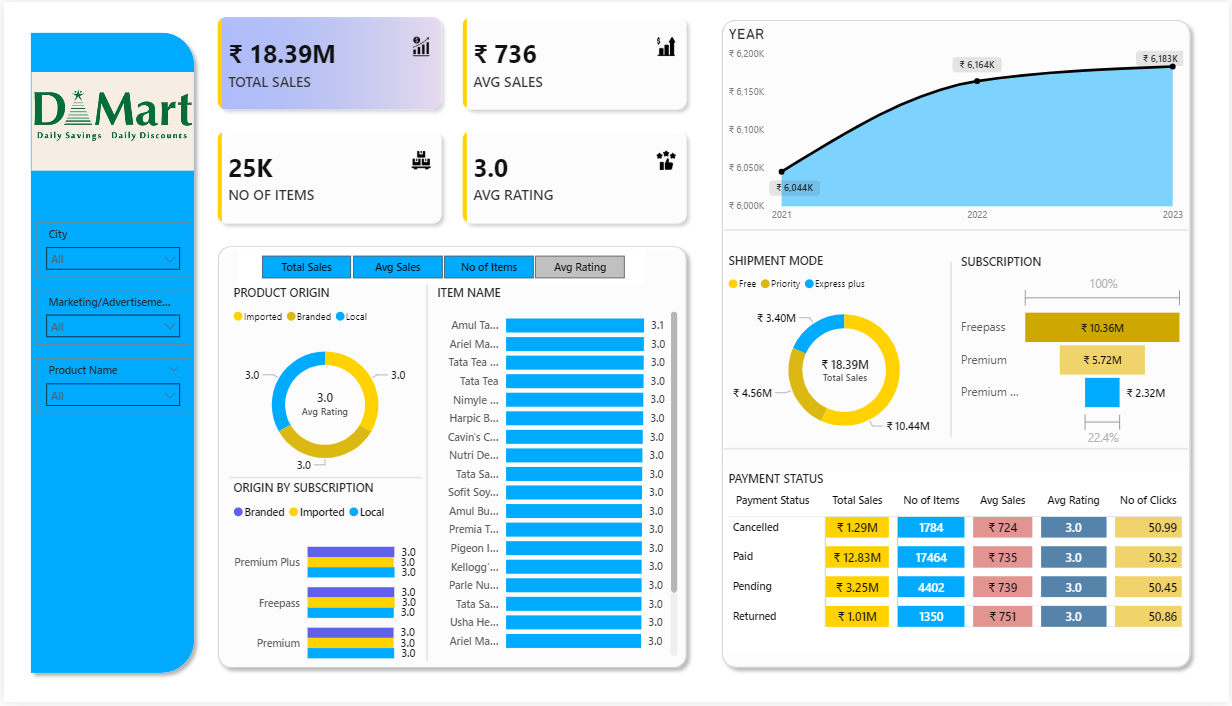

The dashboard page shown, as its layout file describes it:
{"tool":"powerbi","page":{"name":"DMart Dashboard","canvas":[1400,800],"ordinal":4},"visuals":[{"type":"shape","box":[21.7,25,205,750],"z":0},{"type":"cardVisual","fields":{"Data":["Dmart+Dataset_Tableau.Total Sales","Dmart+Dataset_Tableau.Average Sales","Dmart+Dataset_Tableau.No. of Items","Dmart+Dataset_Tableau.Average Rating"]},"box":[226.7,0,570,270],"z":1000},{"type":"shape","box":[235,270,553.3,500],"z":2000},{"type":"slicer","fields":{"Values":["Metrics.Metrics"]},"box":[268.3,283.3,465,40],"z":3000},{"type":"donutChart","title":"PRODUCT ORIGIN","fields":{"Y":["Dmart+Dataset_Tableau.Avg Rating"],"Category":["Dmart+Dataset_Tableau.Category"]},"box":[256.7,323.3,220,230],"z":4000},{"type":"cardVisual","fields":{"Data":["Dmart+Dataset_Tableau.Avg Rating"]},"box":[302.5,421.2,128.8,75],"z":5000},{"type":"clusteredBarChart","title":"ORIGIN BY SUBSCRIPTION","fields":{"Y":["Dmart+Dataset_Tableau.Avg Rating"],"Category":["Dmart+Dataset_Tableau.Subscription"],"Series":["Dmart+Dataset_Tableau.Category"]},"box":[256.7,545,220,230],"z":6000},{"type":"shape","box":[257.1,534.3,220,18.6],"z":7000},{"type":"shape","box":[477.1,322.9,12.9,430],"z":8000},{"type":"image","box":[31.4,80,185.7,112.9],"z":9000},{"type":"barChart","title":"ITEM NAME","fields":{"Y":["Dmart+Dataset_Tableau.Avg Rating"],"Category":["Dmart+Dataset_Tableau.Product Name"]},"box":[490,323.3,285,430],"z":10000},{"type":"shape","box":[811.7,11.7,553.3,758.3],"z":11000},{"type":"lineChart","title":"YEAR","fields":{"Category":["Dmart+Dataset_Tableau.Year"],"Y":["Dmart+Dataset_Tableau.Total Sales"]},"box":[822.5,26.2,530,235],"z":12000},{"type":"shape","box":[823.3,251.7,530,18.3],"z":13000},{"type":"donutChart","title":"SHIPMENT MODE","fields":{"Y":["Dmart+Dataset_Tableau.Total Sales"],"Category":["Dmart+Dataset_Tableau.Ship Mode"]},"box":[823.3,285,275,225],"z":14000},{"type":"shape","box":[1075,296.7,13.3,200],"z":15000},{"type":"funnel","title":"SUBSCRIPTION","fields":{"Y":["Sum(Dmart+Dataset_Tableau.total_order_value)"],"Category":["Dmart+Dataset_Tableau.Subscription"]},"box":[1088.3,286.7,265,226.7],"z":16000},{"type":"shape","box":[823.3,501.7,530,18.3],"z":17000},{"type":"pivotTable","title":"PAYMENT STATUS","fields":{"Values":["Dmart+Dataset_Tableau.Total Sales","Dmart+Dataset_Tableau.No of Items","Dmart+Dataset_Tableau.Avg Sales","Dmart+Dataset_Tableau.Avg Rating","Avg(Dmart+Dataset_Tableau.No of Clicks)"],"Rows":["Dmart+Dataset_Tableau.Payment Status"]},"box":[823.3,535,530,208.3],"z":18000},{"type":"slicer","fields":{"Values":["Dmart+Dataset_Tableau.City"]},"box":[36.7,251.7,175,63.3],"z":19000},{"type":"slicer","fields":{"Values":["Dmart+Dataset_Tableau.Marketing/Advertisement"]},"box":[36.7,328.3,175,63.3],"z":20000},{"type":"slicer","fields":{"Values":["Dmart+Dataset_Tableau.Product Name"]},"box":[36.7,406.7,175,63.3],"z":21000},{"type":"cardVisual","fields":{"Data":["Dmart+Dataset_Tableau.Total Sales"]},"box":[896.7,383.3,128.3,75],"z":22000}]}

Visuals, with their boxes in screenshot pixels (x1, y1, x2, y2), scaled from the page's 1400x800 canvas onto the 1232x706 screenshot:
shape: pyautogui.locateOnScreen(19, 22, 199, 684)
cardVisual - Dmart+Dataset_Tableau.Total Sales x Dmart+Dataset_Tableau.Average Sales: pyautogui.locateOnScreen(199, 0, 701, 238)
shape: pyautogui.locateOnScreen(207, 238, 694, 680)
slicer - Metrics.Metrics: pyautogui.locateOnScreen(236, 250, 645, 285)
"PRODUCT ORIGIN" donutChart: pyautogui.locateOnScreen(226, 285, 419, 488)
cardVisual - Dmart+Dataset_Tableau.Avg Rating: pyautogui.locateOnScreen(266, 372, 380, 438)
"ORIGIN BY SUBSCRIPTION" clusteredBarChart: pyautogui.locateOnScreen(226, 481, 419, 684)
shape: pyautogui.locateOnScreen(226, 472, 420, 488)
shape: pyautogui.locateOnScreen(420, 285, 431, 664)
image: pyautogui.locateOnScreen(28, 71, 191, 170)
"ITEM NAME" barChart: pyautogui.locateOnScreen(431, 285, 682, 665)
shape: pyautogui.locateOnScreen(714, 10, 1201, 680)
"YEAR" lineChart: pyautogui.locateOnScreen(724, 23, 1190, 231)
shape: pyautogui.locateOnScreen(725, 222, 1191, 238)
"SHIPMENT MODE" donutChart: pyautogui.locateOnScreen(725, 252, 967, 450)
shape: pyautogui.locateOnScreen(946, 262, 958, 438)
"SUBSCRIPTION" funnel: pyautogui.locateOnScreen(958, 253, 1191, 453)
shape: pyautogui.locateOnScreen(725, 443, 1191, 459)
"PAYMENT STATUS" pivotTable: pyautogui.locateOnScreen(725, 472, 1191, 656)
slicer - Dmart+Dataset_Tableau.City: pyautogui.locateOnScreen(32, 222, 186, 278)
slicer - Dmart+Dataset_Tableau.Marketing/Advertisement: pyautogui.locateOnScreen(32, 290, 186, 346)
slicer - Dmart+Dataset_Tableau.Product Name: pyautogui.locateOnScreen(32, 359, 186, 415)
cardVisual - Dmart+Dataset_Tableau.Total Sales: pyautogui.locateOnScreen(789, 338, 902, 404)
